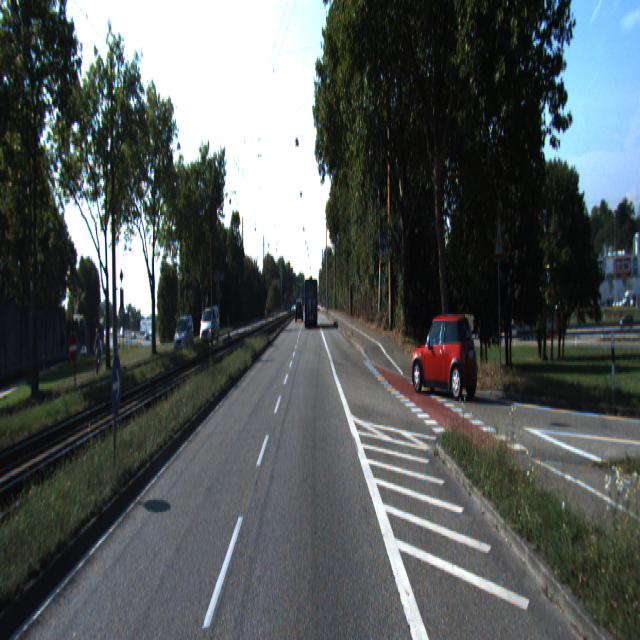Car: (410, 314, 480, 405), (173, 315, 195, 356), (200, 308, 220, 347), (304, 278, 318, 328)
